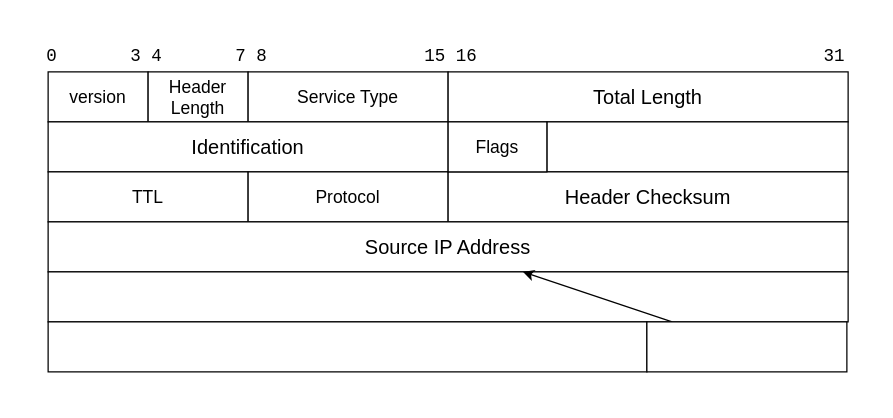
This 893x418 diagram has some shape labels left out. The centre of each missing label's shape, as x and y in pixels:
"Destination IP Address" goes at pixel 447 296.
"Fragment Offset" goes at pixel 697 146.
"Options" goes at pixel 347 346.
"Padding" goes at pixel 746 346.
